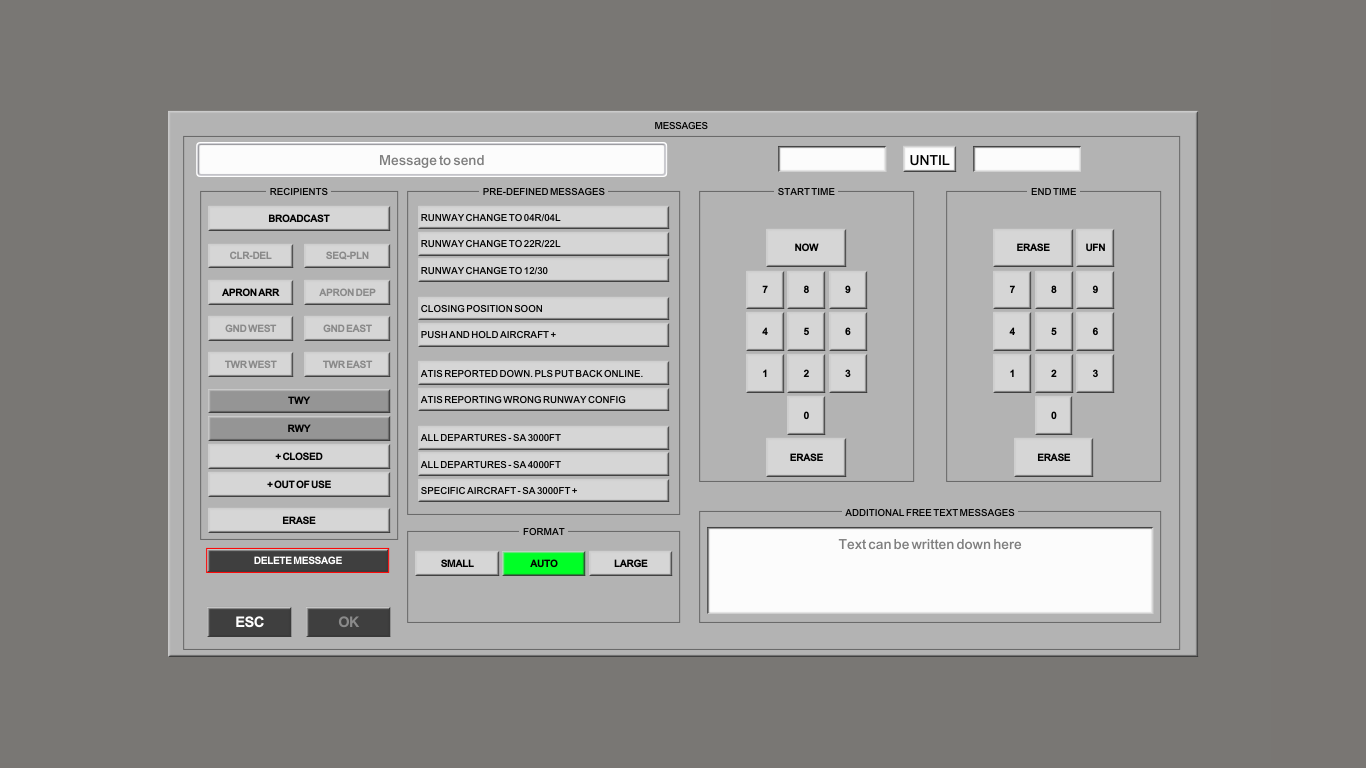
Scenario: menu dialog bevels › erases the last word of the composed message
Click the button "CLOSING POSITION SOON". click: coordinates (544, 309)
box: left=418, top=297, right=670, bottom=320
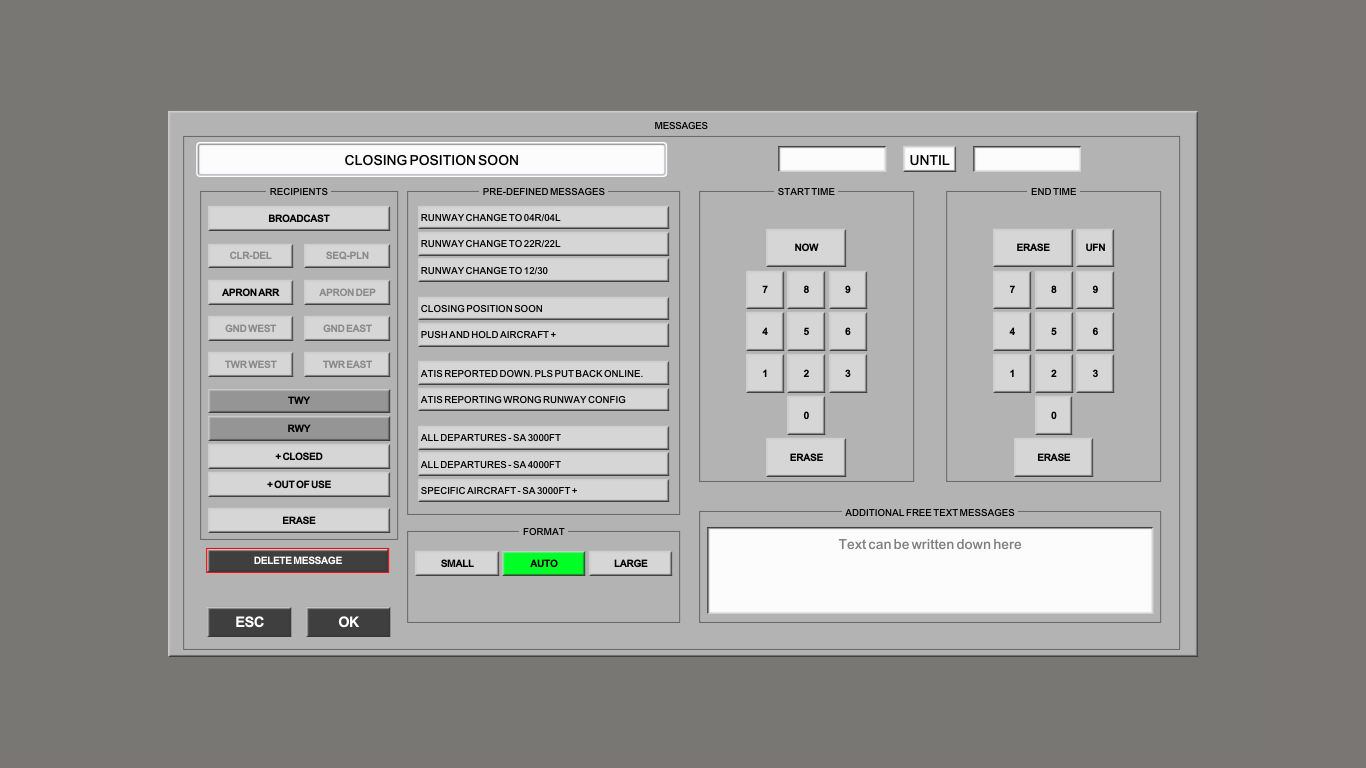
Click the button with aria-label "Erase last word". click: coordinates (299, 520)
box: left=208, top=508, right=390, bottom=533
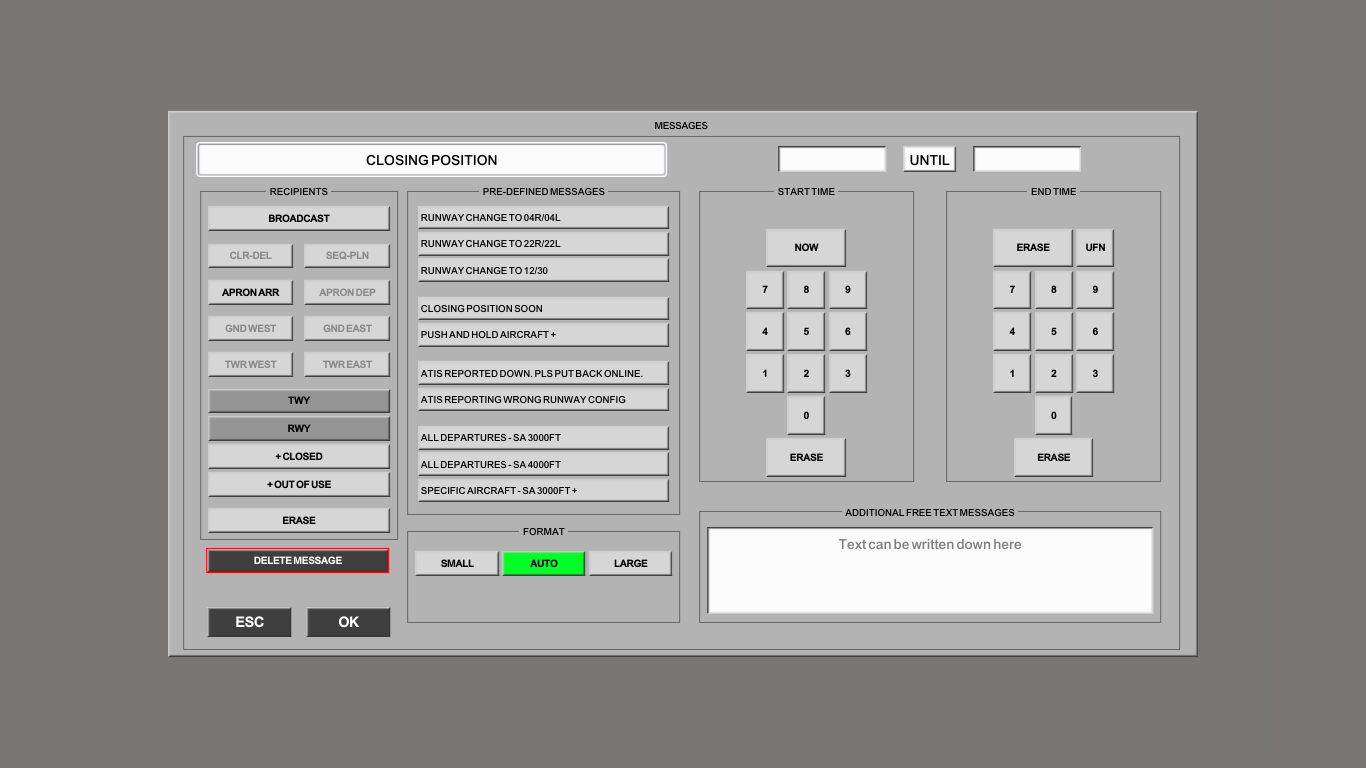
Expected: the text box named "Message to send" holds "CLOSING POSITION", left=198, top=142, right=666, bottom=176
